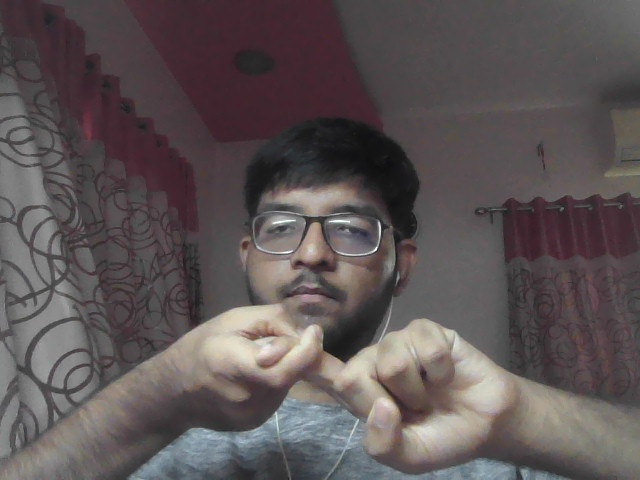મિત્ર: (118, 287, 571, 480)
